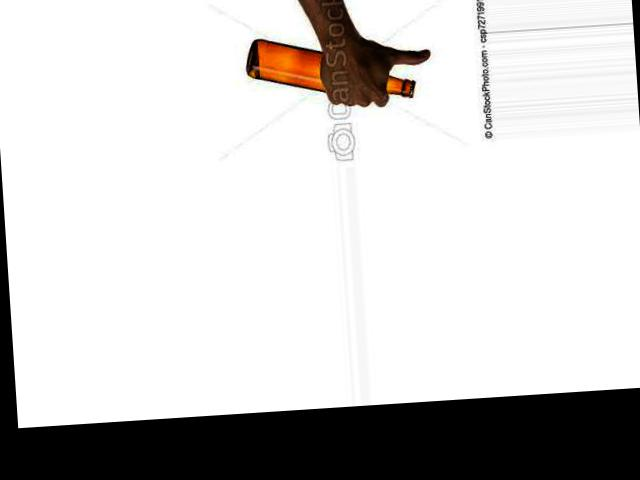beer: (244, 28, 415, 107)
